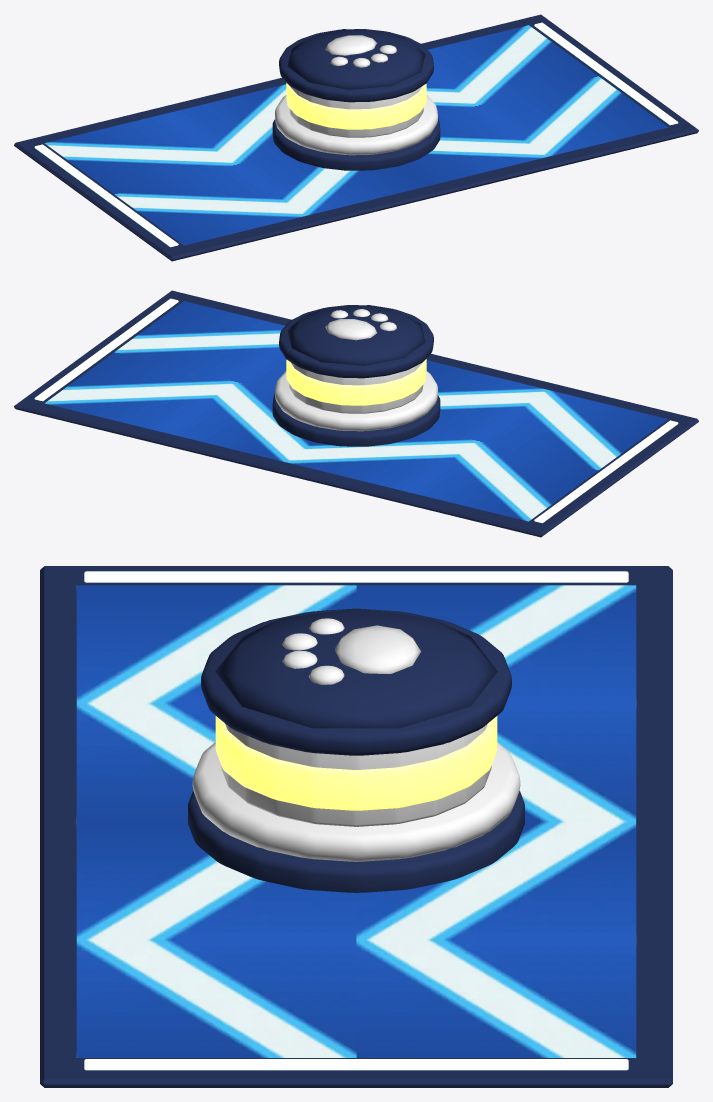
The model's file is kit_interactables.glb.
3 views of the same model, one above another, from view 1: azimuth 30°, elevation 25°; view 2: azimuth 150°, elevation 25°; view 3: azimuth 270°, elevation 25° (orthographic). The views are drawn at different scales.
Visible parts, largest first — view 1: boost_chevrons, paw_body, boost_frame, paw_light, boost_lights; view 2: boost_chevrons, paw_body, boost_frame, paw_light, boost_lights; view 3: boost_chevrons, paw_body, boost_frame, boost_lights, paw_light.
Part boxes in pixels (x1,y1,x2,y2): boost_chevrons: [44, 25, 668, 245]; paw_body: [272, 29, 440, 170]; boost_frame: [14, 14, 698, 261]; paw_light: [286, 83, 426, 129]; boost_lights: [34, 22, 678, 247]; boost_chevrons: [44, 301, 668, 521]; paw_body: [272, 305, 440, 446]; boost_frame: [14, 290, 698, 537]; paw_light: [286, 359, 426, 405]; boost_lights: [34, 298, 678, 523]; boost_chevrons: [76, 585, 636, 1057]; paw_body: [188, 608, 524, 892]; boost_frame: [40, 566, 672, 1087]; boost_lights: [84, 571, 628, 1070]; paw_light: [215, 716, 497, 810].
Bounding box in the file's own units: 8.3 × 2.11 × 4.3.
Materials: 6 (4 with a texture image).
